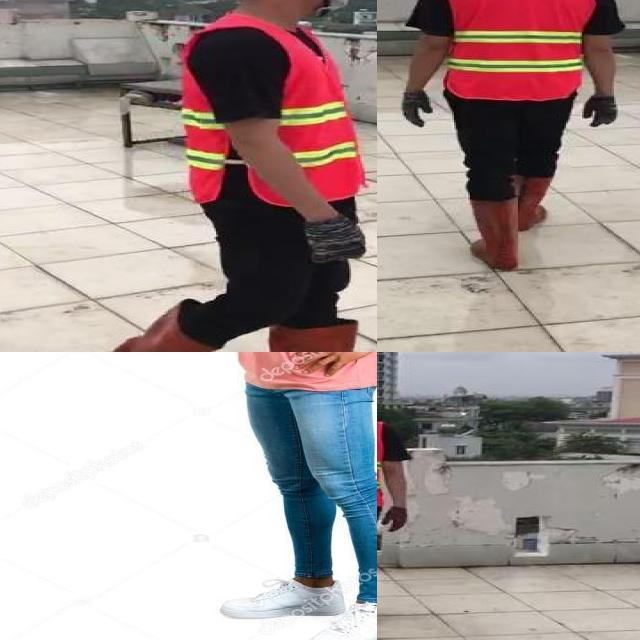boots: (114, 300, 216, 352), (466, 198, 522, 274), (266, 322, 377, 352), (512, 176, 552, 235)
hand_glove: (292, 216, 370, 261), (400, 91, 432, 128), (584, 94, 618, 126), (381, 506, 409, 533)
hand_noglove: (289, 352, 377, 381)
person: (110, 0, 377, 352), (383, 0, 632, 281), (219, 352, 377, 640), (377, 371, 421, 626)
vest: (177, 13, 365, 207), (445, 0, 592, 101)
